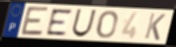4: (120, 11, 140, 41)
E: (19, 5, 51, 37), (45, 8, 74, 36)
K: (143, 12, 167, 42)
O: (96, 9, 119, 39)
U: (70, 8, 98, 38)
